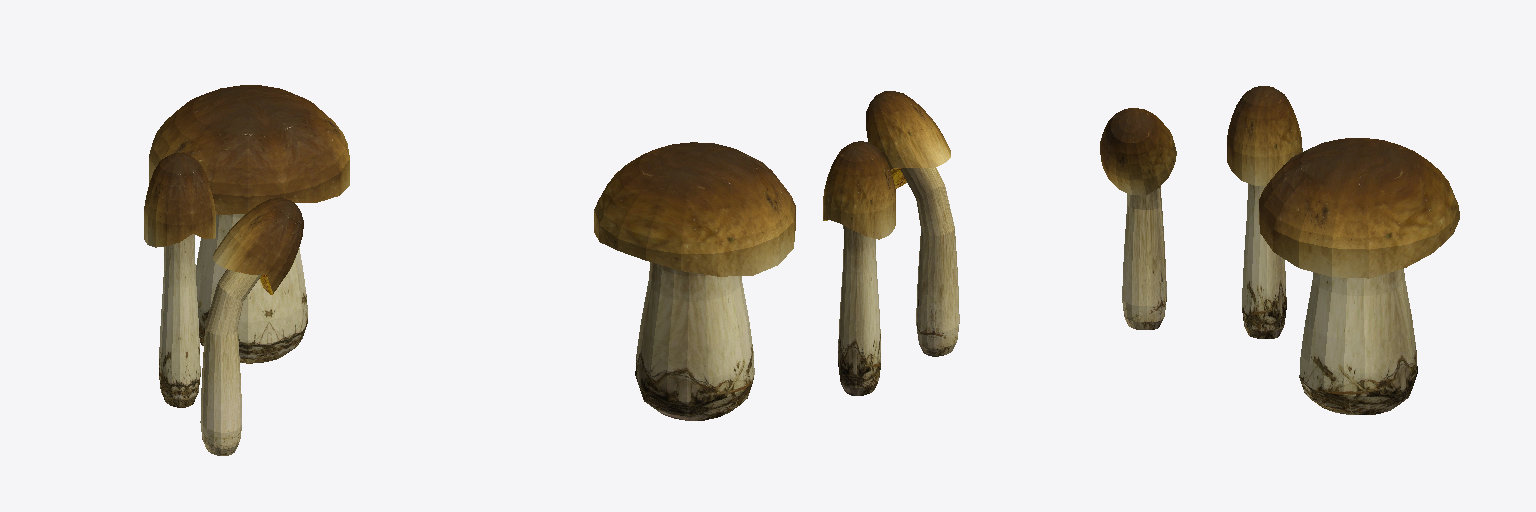
3 renders of one model, left to right at view 1: azimuth 30°, elevation 25°; view 2: azimuth 150°, elevation 25°; view 3: azimuth 270°, elevation 25°, orthographic.
Parts seen in each view (by area): view 1: toadstool1_d; view 2: toadstool1_d; view 3: toadstool1_d.
Boxes of the visible parts, x1,y1,x2,y2 form: toadstool1_d: [144, 85, 349, 455]; toadstool1_d: [594, 91, 959, 420]; toadstool1_d: [1100, 86, 1459, 414].
Bounding box in the file's own units: 24.3 × 24.54 × 31.53.
1 materials, 1 textured.